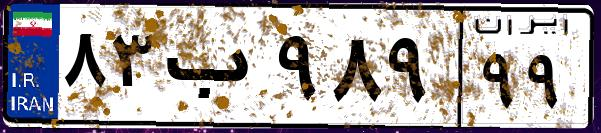3: (110, 28, 158, 98)
8: (330, 28, 385, 110), (57, 26, 110, 100)
9: (270, 28, 330, 110), (385, 28, 445, 110), (475, 38, 525, 113), (525, 38, 570, 115)
ب: (158, 20, 270, 120)
